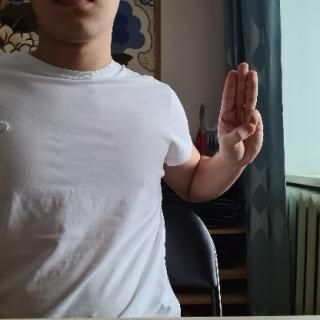THA: (217, 58, 266, 169)
